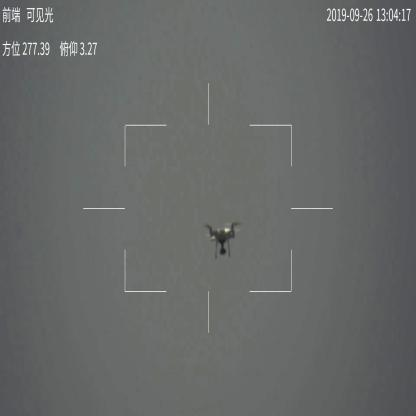uav: (201, 220, 244, 258)
